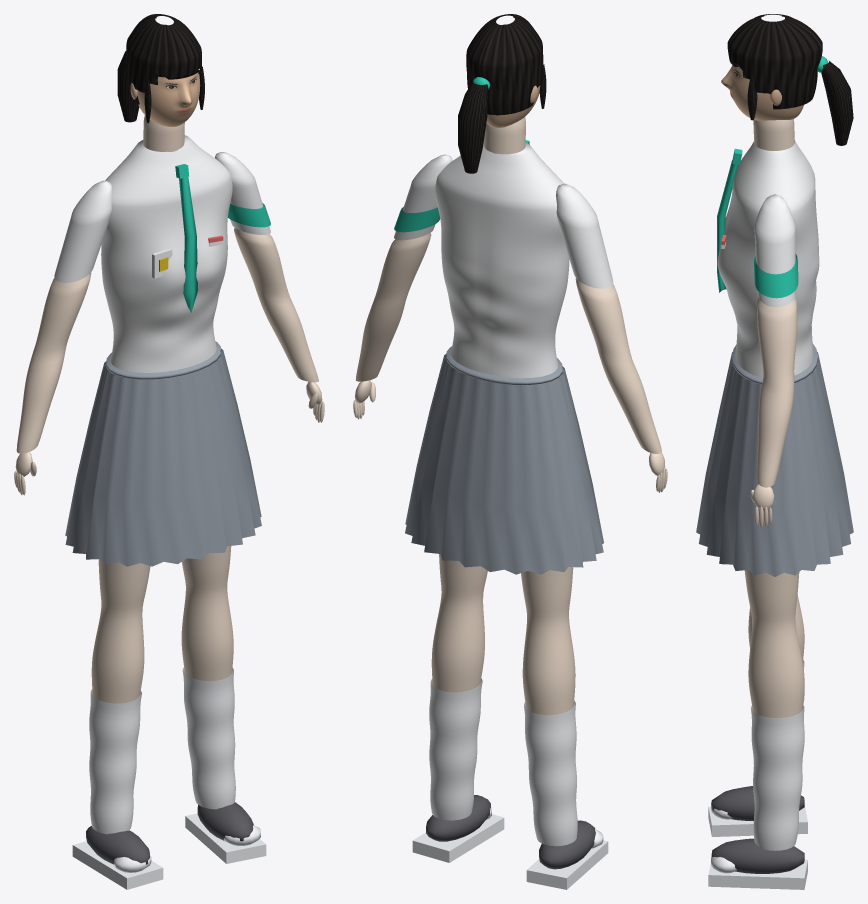
Rendered from csl_char_siti.glb.
The picture shows the model from 3 angles, left to right: view 1: azimuth 30°, elevation 25°; view 2: azimuth 150°, elevation 25°; view 3: azimuth 270°, elevation 25°; orthographic projection.
Parts seen in each view (by area): view 1: Torso, ShinL, ShinR, Head, ArmL, ForeArmL, ArmR, ForeArmR, LegL, LegR; view 2: Torso, ShinL, ShinR, Head, ArmL, ArmR, ForeArmL, LegL, ForeArmR, LegR; view 3: Torso, ShinR, Head, ArmR, ForeArmR, LegR, ShinL.
Part boxes in pixels (bbox=[...]): Torso: bbox=[65, 115, 261, 566]; ShinL: bbox=[72, 630, 163, 889]; ShinR: bbox=[181, 608, 266, 863]; Head: bbox=[117, 14, 204, 126]; ArmL: bbox=[39, 180, 112, 335]; ForeArmL: bbox=[14, 325, 73, 495]; ArmR: bbox=[215, 152, 284, 280]; ForeArmR: bbox=[249, 272, 324, 422]; LegL: bbox=[97, 559, 150, 639]; LegR: bbox=[182, 546, 231, 618]; Torso: bbox=[405, 117, 603, 574]; ShinL: bbox=[522, 638, 608, 889]; ShinR: bbox=[412, 616, 504, 862]; Head: bbox=[458, 14, 546, 173]; ArmL: bbox=[556, 183, 626, 343]; ArmR: bbox=[378, 154, 452, 287]; ForeArmL: bbox=[591, 331, 667, 492]; LegL: bbox=[521, 567, 573, 648]; ForeArmR: bbox=[353, 279, 413, 419]; LegR: bbox=[438, 554, 487, 626]; Torso: bbox=[696, 119, 853, 576]; ShinR: bbox=[708, 643, 807, 889]; Head: bbox=[721, 14, 853, 145]; ArmR: bbox=[754, 194, 798, 364]; ForeArmR: bbox=[750, 355, 795, 528]; LegR: bbox=[744, 570, 799, 651]; ShinL: bbox=[708, 600, 807, 836].
Size of the model in its own units: 0.6181 by 1.61 by 0.2764.
13 materials, 1 textured.
